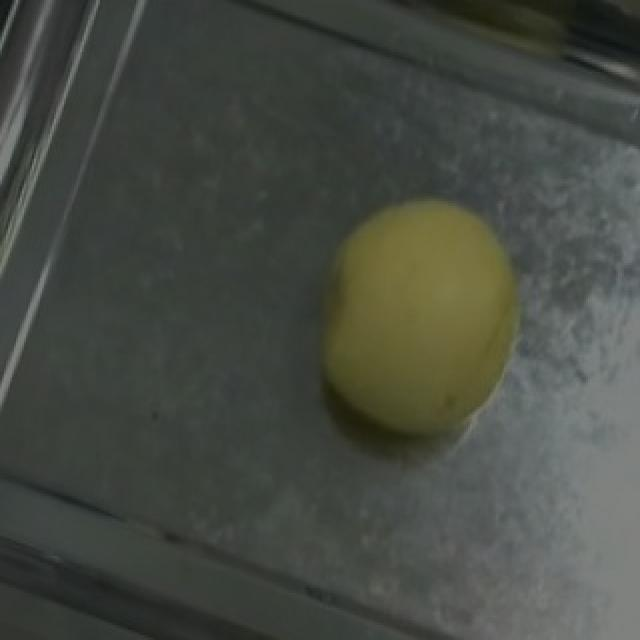Fruit: (270, 156, 568, 479)
